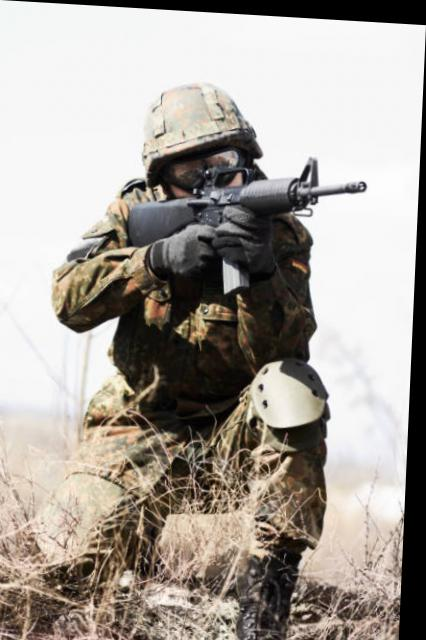other: (92, 73, 311, 567)
